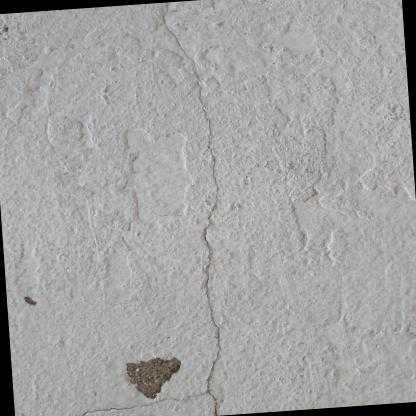crack: (67, 2, 223, 416)
